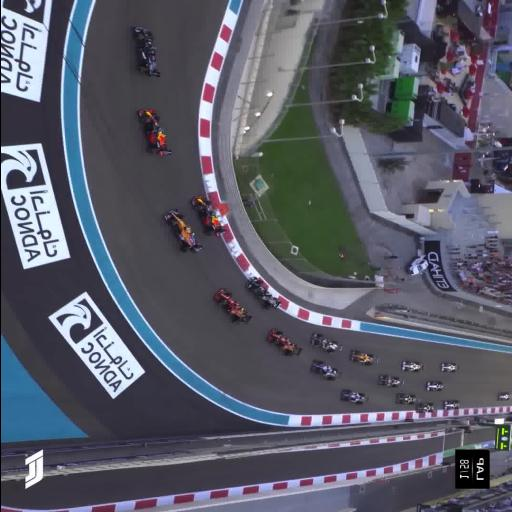f1_car: (164, 209, 202, 253), (137, 110, 171, 156), (132, 27, 160, 77), (191, 196, 225, 237), (214, 289, 251, 323), (247, 277, 280, 310), (267, 329, 302, 357), (311, 360, 341, 381), (311, 333, 342, 353), (349, 350, 378, 366), (341, 390, 367, 405), (379, 375, 403, 387), (401, 361, 423, 373), (396, 394, 418, 405), (415, 403, 435, 413), (440, 363, 458, 372), (443, 400, 459, 410), (426, 382, 443, 391), (497, 393, 511, 401)
